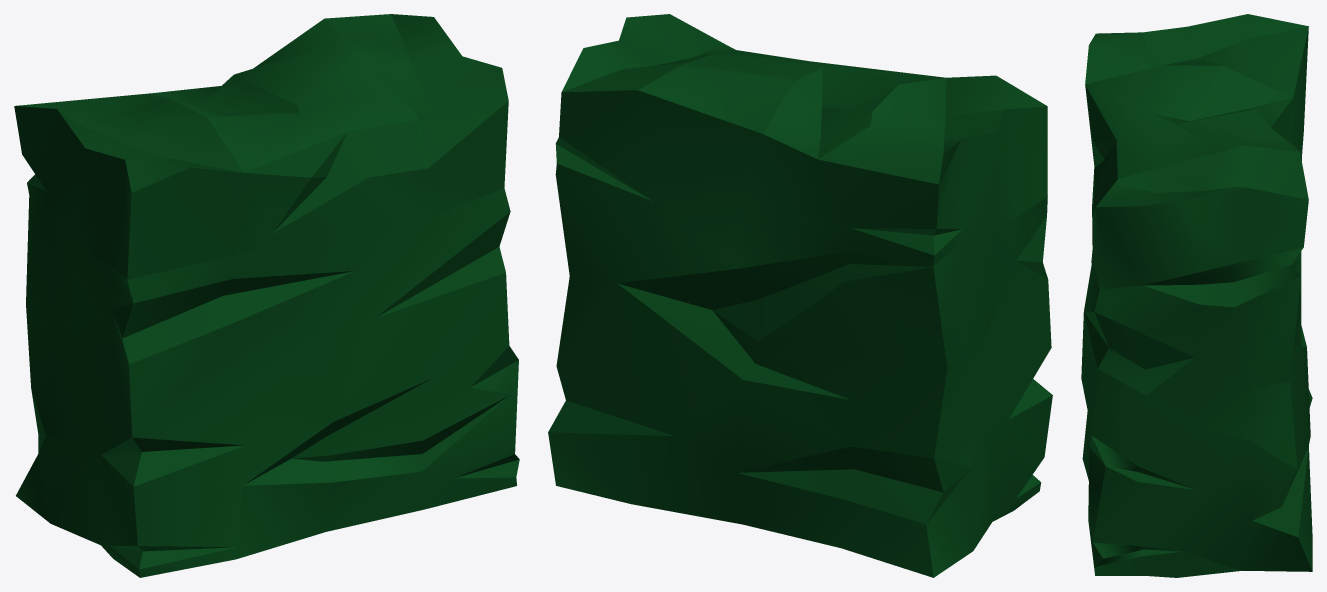
File: Hedge_2.fbx
The picture shows the model from 3 angles, left to right: view 1: azimuth 30°, elevation 25°; view 2: azimuth 150°, elevation 25°; view 3: azimuth 270°, elevation 25°; orthographic projection. The views are drawn at different scales.
Visible parts, largest first — view 1: Hedge_2; view 2: Hedge_2; view 3: Hedge_2.
Boxes of the visible parts, x1=… form: Hedge_2: x1=14, y1=14, x2=519, y2=577; Hedge_2: x1=548, y1=14, x2=1052, y2=577; Hedge_2: x1=1081, y1=14, x2=1312, y2=577.
Size of the model in its own units: 48.84 by 47.24 by 25.53.
